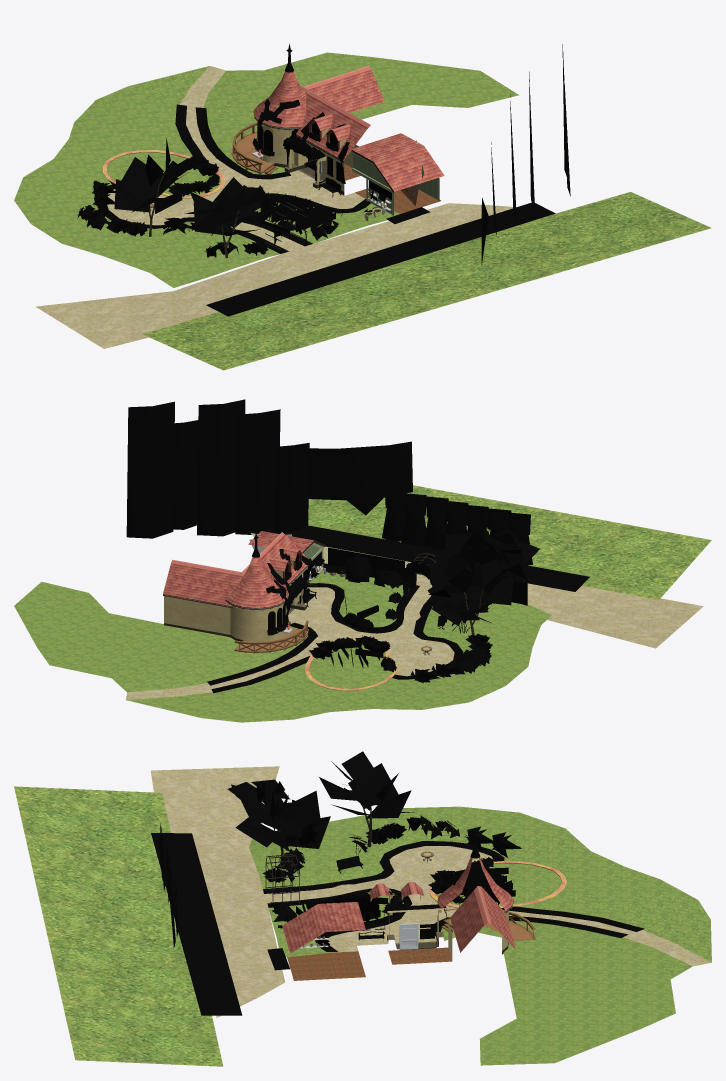
File: small_house_with_garden.glb
3 views of the same model, one above another, from view 1: azimuth 30°, elevation 25°; view 2: azimuth 150°, elevation 25°; view 3: azimuth 270°, elevation 25° (orthographic). The views are drawn at different scales.
Visible parts, largest first — view 1: FrontSide_2, BackSide_0, FrontSide_17, FrontSide_11, FrontSide_6, FrontSide_5, FrontSide_13, FrontSide_8, FrontSide_4; view 2: BackSide_0, FrontSide_2, FrontSide_17, FrontSide_11, FrontSide_5, FrontSide_6; view 3: FrontSide_2, BackSide_0 (×2), FrontSide_17, FrontSide_11, FrontSide_13, FrontSide_6, FrontSide_28, FrontSide_4, FrontSide_5.
Boxes of the visible parts, x1,y1,x2,y2 form: FrontSide_2: [14, 52, 711, 370]; BackSide_0: [77, 43, 570, 316]; FrontSide_17: [36, 66, 512, 348]; FrontSide_11: [253, 70, 444, 191]; FrontSide_6: [231, 66, 439, 215]; FrontSide_5: [255, 120, 358, 191]; FrontSide_13: [344, 163, 441, 213]; FrontSide_8: [353, 154, 437, 214]; FrontSide_4: [103, 150, 225, 198]; BackSide_0: [126, 399, 589, 693]; FrontSide_2: [14, 485, 711, 722]; FrontSide_17: [125, 533, 703, 699]; FrontSide_11: [163, 531, 313, 607]; FrontSide_5: [164, 559, 307, 641]; FrontSide_6: [163, 532, 325, 653]; FrontSide_2: [14, 786, 711, 1066]; BackSide_0 (×2): [151, 751, 644, 1015]; FrontSide_17: [151, 766, 711, 1017]; FrontSide_11: [282, 857, 515, 953]; FrontSide_13: [287, 947, 452, 980]; FrontSide_6: [299, 881, 536, 954]; FrontSide_28: [265, 854, 389, 906]; FrontSide_4: [429, 861, 567, 907]; FrontSide_5: [370, 888, 511, 959].
Size of the model in its own units: 49.69 by 12.26 by 48.59.
39 materials, 38 textured.
